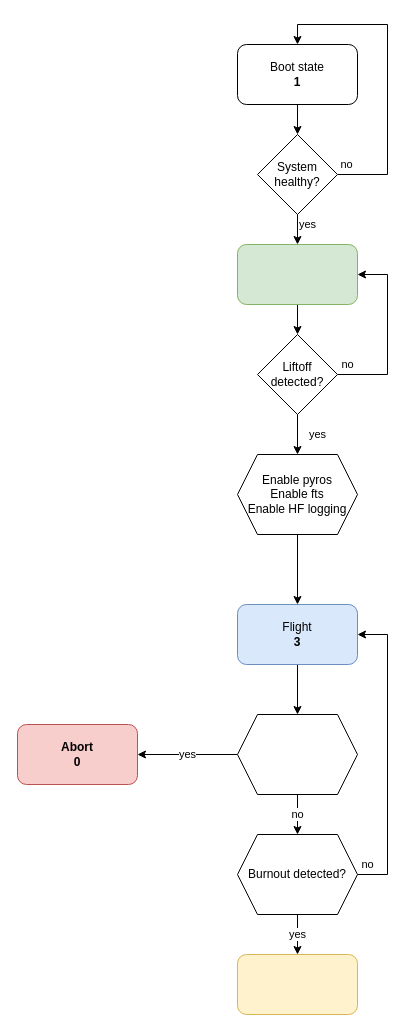
Image size: 413x1032. Some labels were removed from this diagram. Each missing label, with the centre of its shape:
"Apogee detection 4" goes at [297,984].
"Ground idle 2" goes at [297,274].
"Outside of flight bounds?" goes at [297,754].
